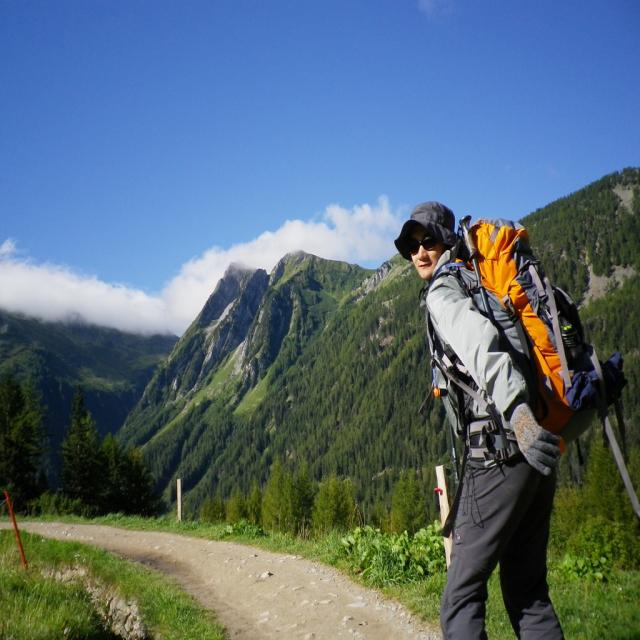backpack: (415, 220, 609, 469)
